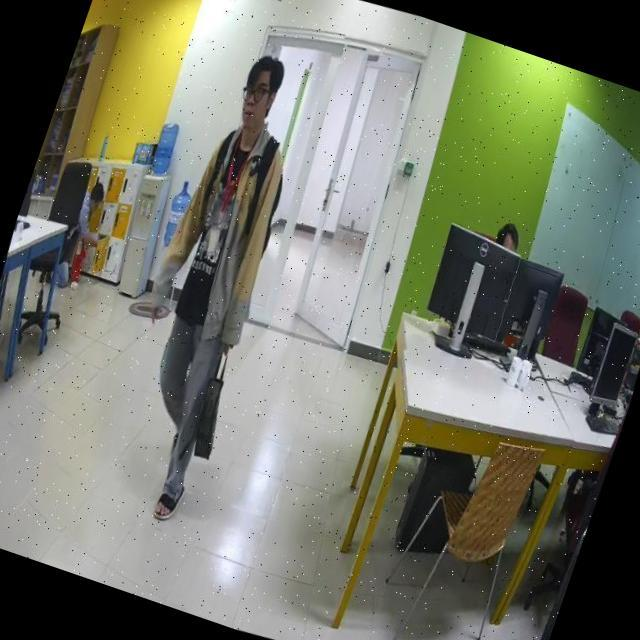person: (64, 39, 343, 538)
